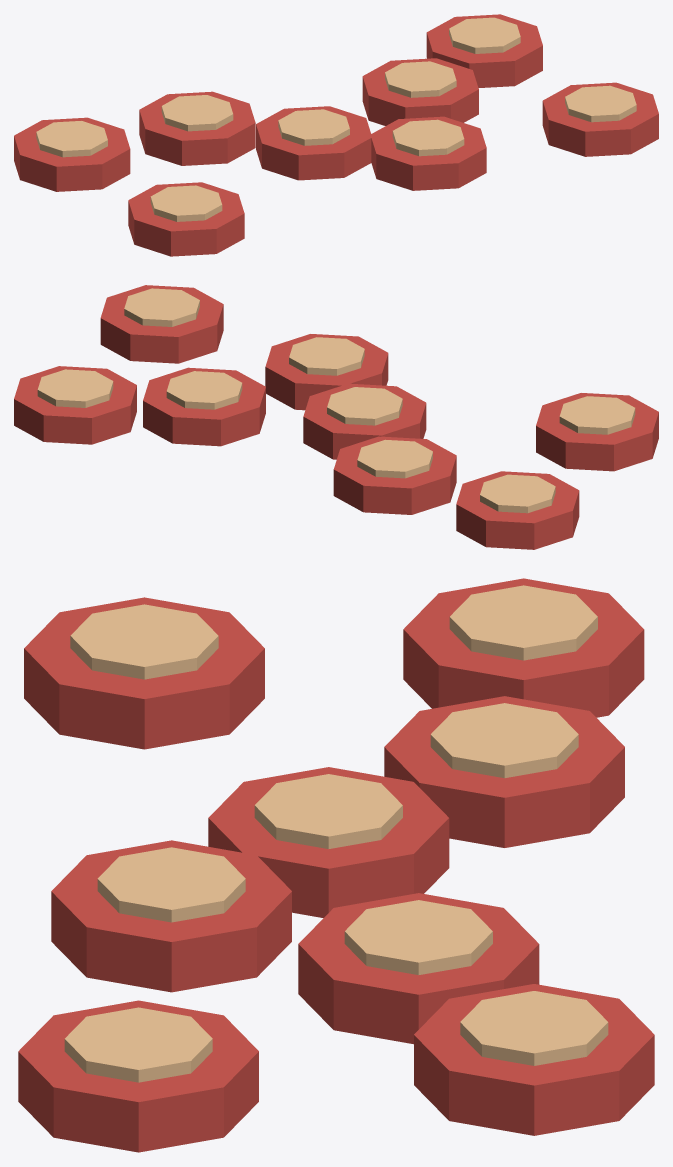
The model's file is chilli-chopped.glb.
The picture shows the model from 3 angles, top to bottom: view 1: azimuth 30°, elevation 25°; view 2: azimuth 150°, elevation 25°; view 3: azimuth 270°, elevation 25°; orthographic projection. The views are drawn at different scales.
Parts seen in each view (by area): view 1: chilli-chopped; view 2: chilli-chopped; view 3: chilli-chopped.
Part boxes in pixels (x1,y1,x2,y2): chilli-chopped: (14,14,658,256); chilli-chopped: (14,285,658,549); chilli-chopped: (18,578,654,1152).
Bounding box in the file's own units: 0.2677 × 0.015 × 0.1374.
Materials: 1 (1 with a texture image).
